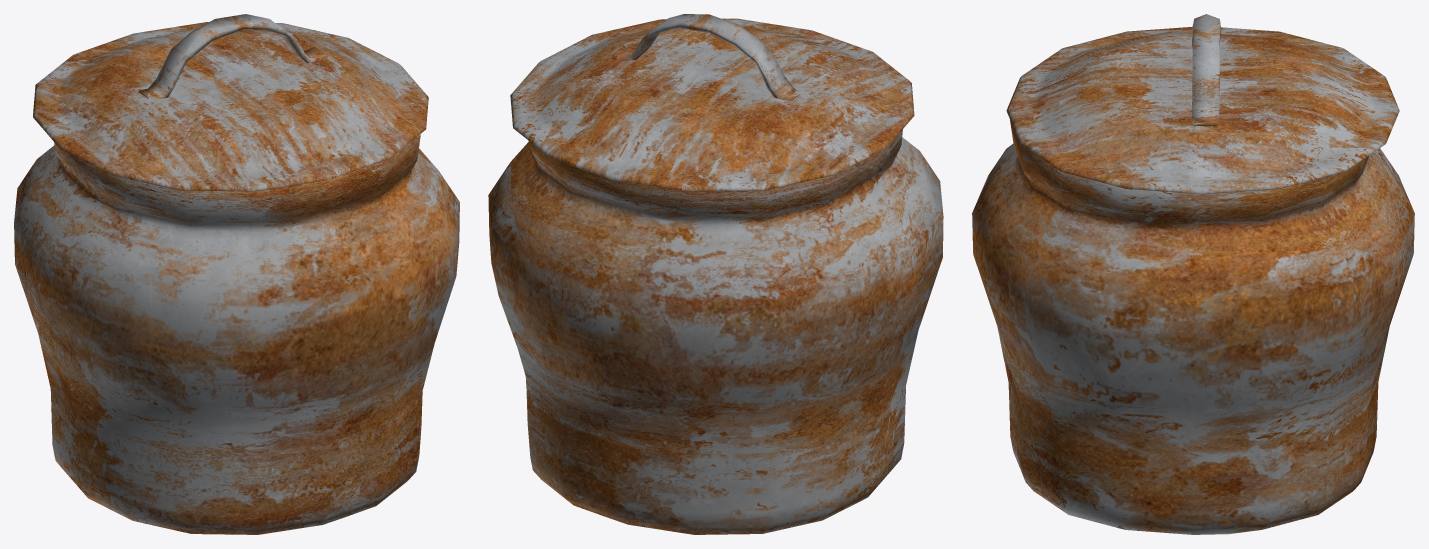
Rendered from SM_pot03.fbx.
The picture shows the model from 3 angles, left to right: view 1: azimuth 30°, elevation 25°; view 2: azimuth 150°, elevation 25°; view 3: azimuth 270°, elevation 25°; orthographic projection. The views are drawn at different scales.
Parts seen in each view (by area): view 1: SM_pot03_LOD0; view 2: SM_pot03_LOD0; view 3: SM_pot03_LOD0.
Boxes of the visible parts, box(x1,y1,x2,y2) form: SM_pot03_LOD0: box(14, 14, 459, 534); SM_pot03_LOD0: box(488, 14, 943, 534); SM_pot03_LOD0: box(972, 14, 1414, 534).
Bounding box in the file's own units: 47.54 × 47.54 × 53.51.
